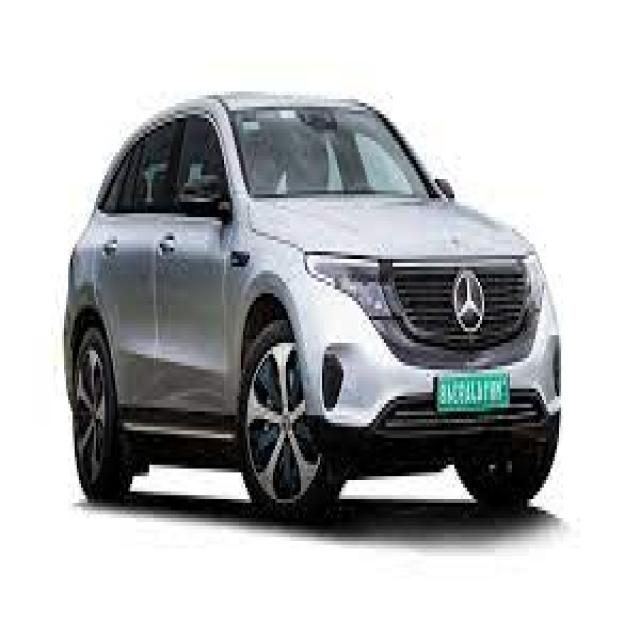Car: (61, 84, 566, 528)
